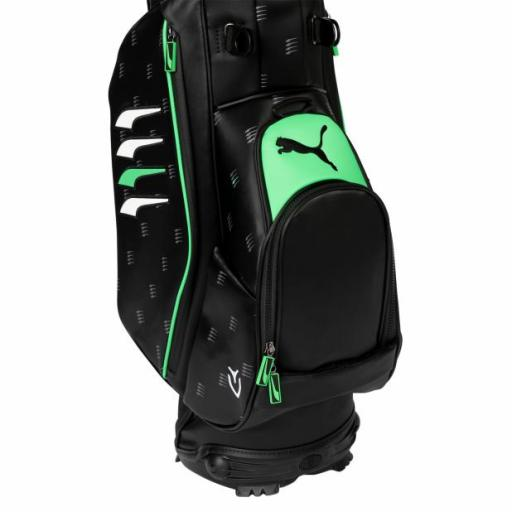Puma: (267, 120, 344, 175)
